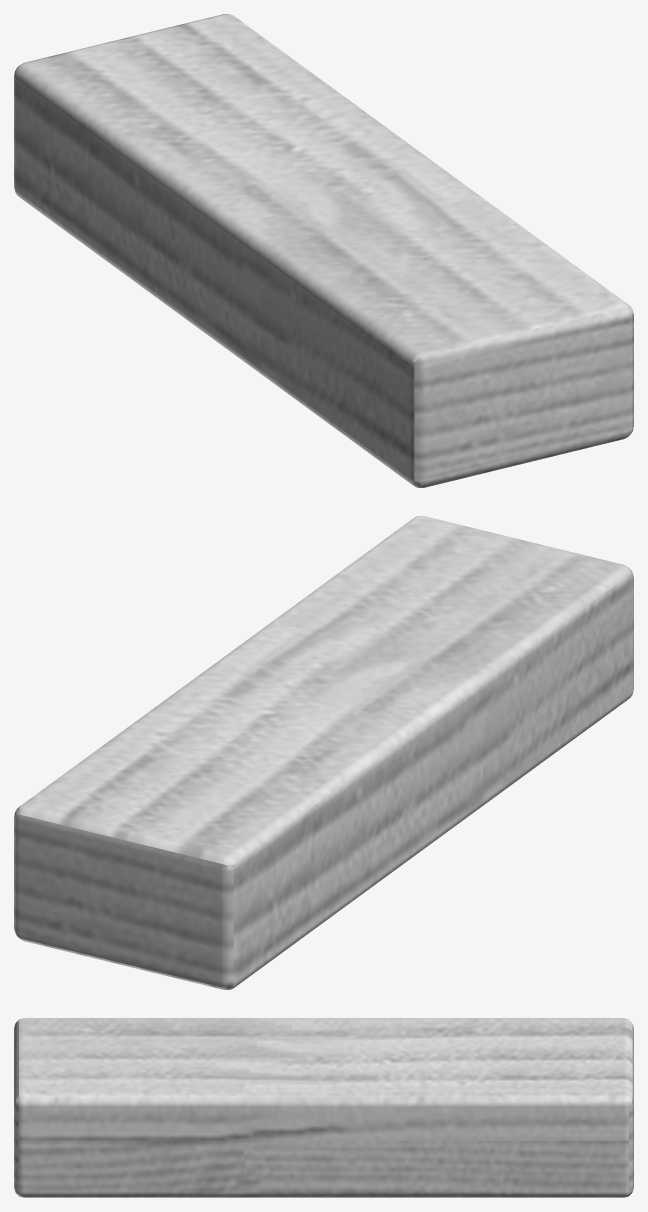
File: Step_Clg.fbx
The picture shows the model from 3 angles, top to bottom: view 1: azimuth 30°, elevation 25°; view 2: azimuth 150°, elevation 25°; view 3: azimuth 270°, elevation 25°; orthographic projection. The views are drawn at different scales.
Visible parts, largest first — view 1: polySurface97; view 2: polySurface97; view 3: polySurface97.
Boxes of the visible parts, left/top/right/bottom form: polySurface97: left=14, top=14, right=633, bottom=487; polySurface97: left=14, top=516, right=633, bottom=989; polySurface97: left=14, top=1018, right=633, bottom=1197.
Size of the model in its own units: 4.93 by 2.86 by 15.58.
